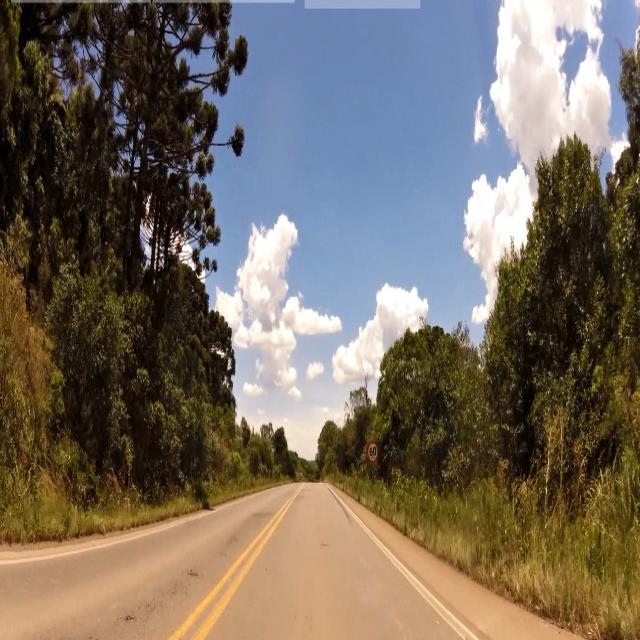R-19: (368, 441, 378, 464)
